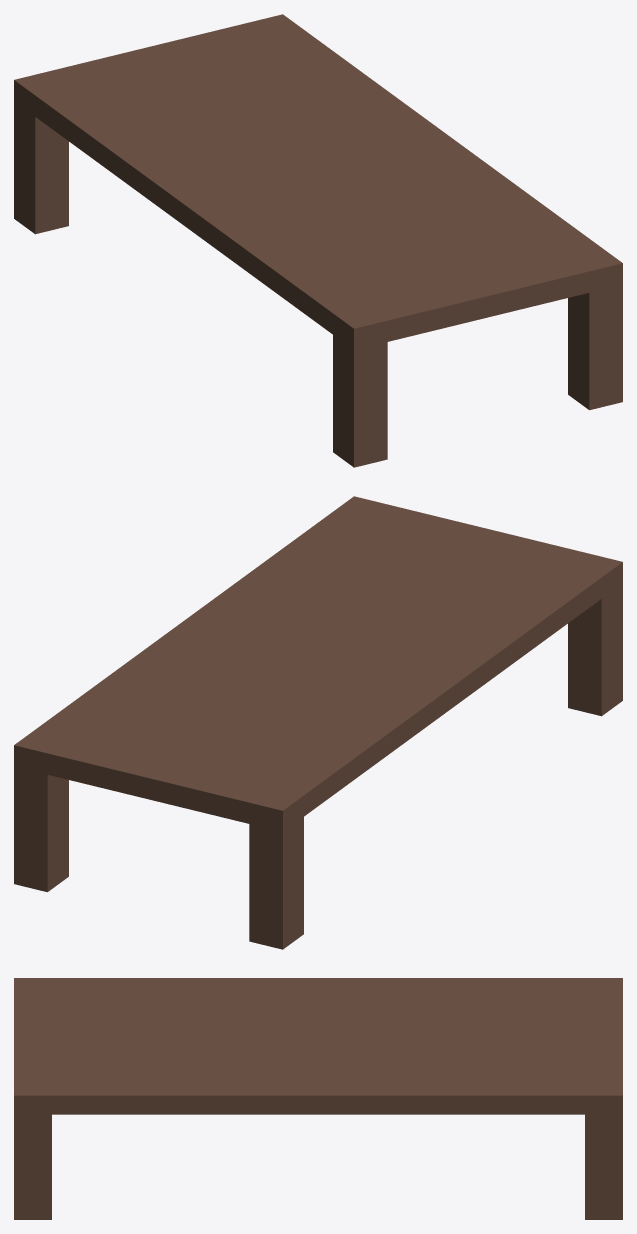
File: table.fbx
3 views of the same model, one above another, from view 1: azimuth 30°, elevation 25°; view 2: azimuth 150°, elevation 25°; view 3: azimuth 270°, elevation 25° (orthographic). The views are drawn at different scales.
Visible parts, largest first — view 1: Cube; view 2: Cube; view 3: Cube.
Boxes of the visible parts, x1,y1,x2,y2 form: Cube: (14, 14, 622, 467); Cube: (14, 496, 622, 949); Cube: (14, 978, 622, 1219).
Bounding box in the file's own units: 452 × 223 × 990.
